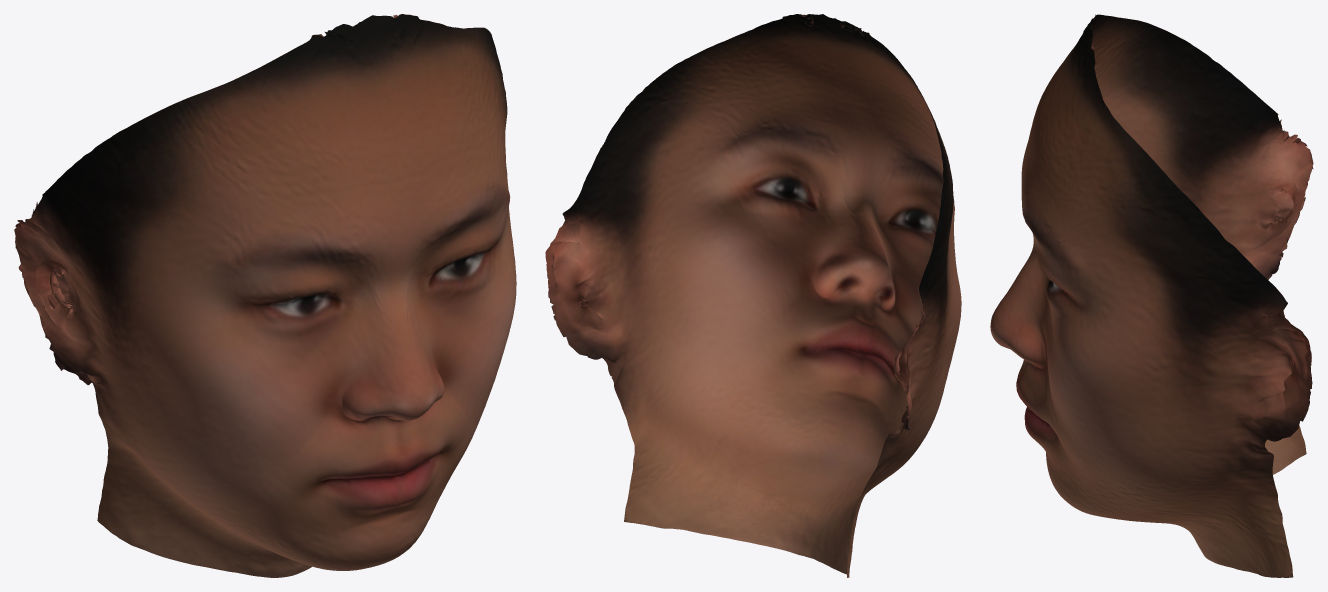
File: asian.glb
3 views of the same model, side by side, from view 1: azimuth 30°, elevation 25°; view 2: azimuth 150°, elevation 25°; view 3: azimuth 270°, elevation 25° (orthographic). The views are drawn at different scales.
Visible parts, largest first — view 1: average_easian; view 2: average_easian; view 3: average_easian.
Boxes of the visible parts, x1,y1,x2,y2 form: average_easian: (14,14,516,577); average_easian: (545,14,961,577); average_easian: (990,14,1313,577).
Size of the model in its own units: 182 by 232 by 130.
1 material, 1 textured.
